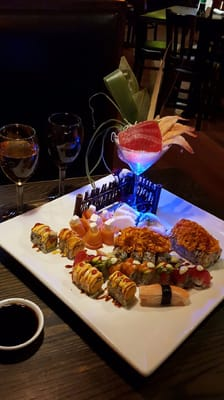sushi: (0, 298, 45, 365)
